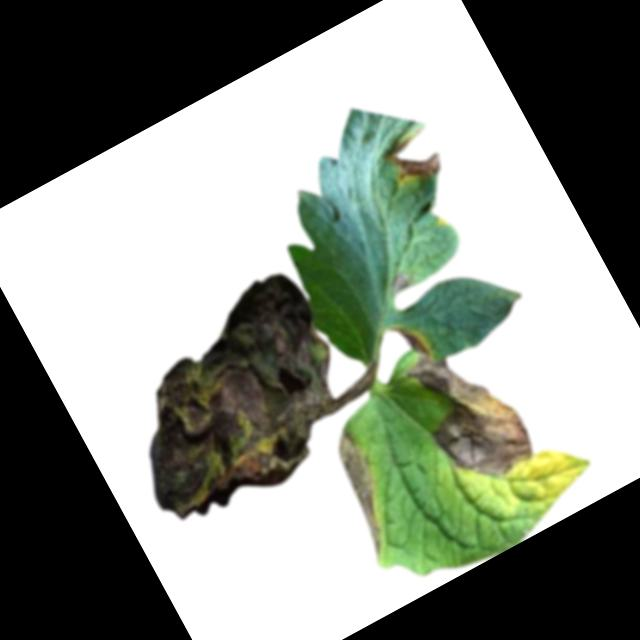Early_blight: (87, 263, 377, 539), (399, 331, 543, 497), (317, 427, 410, 555), (378, 123, 448, 193), (385, 316, 431, 367), (386, 270, 414, 296)
